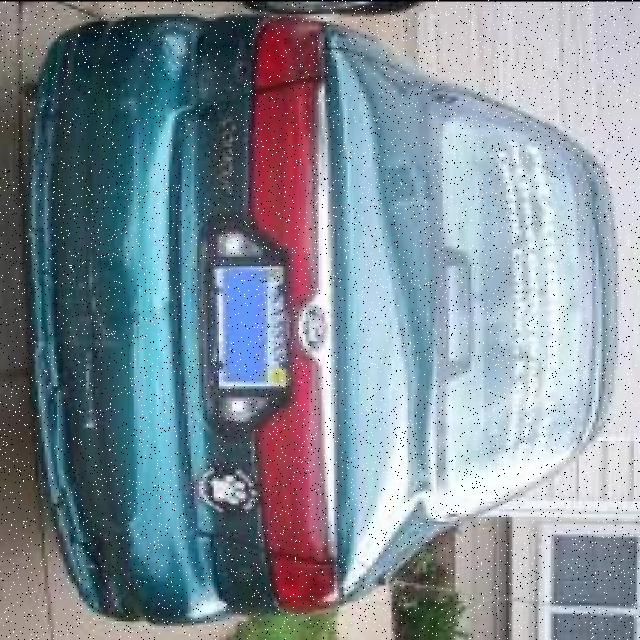damage: (65, 506, 169, 618), (53, 254, 146, 372)
